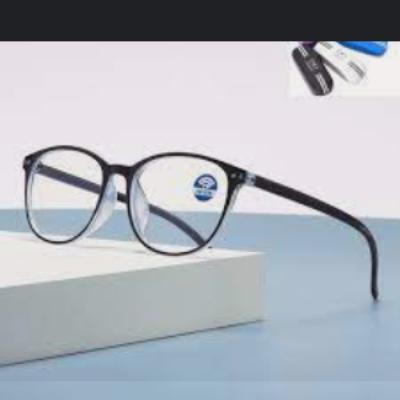glasses: (19, 142, 390, 308)
